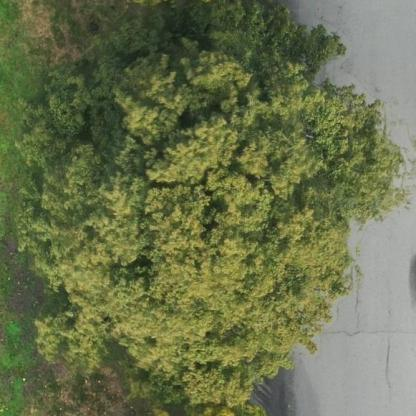Deciduous Tree: (16, 2, 410, 396)
